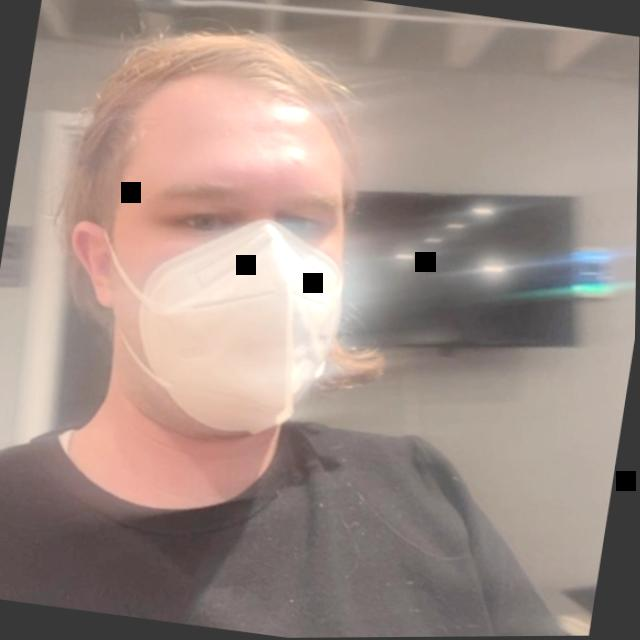Mask: (20, 0, 446, 544)
